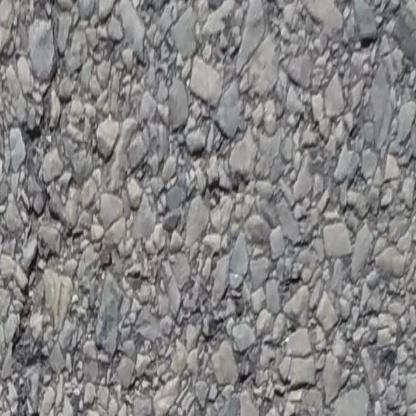Cracks: (8, 0, 68, 416)
